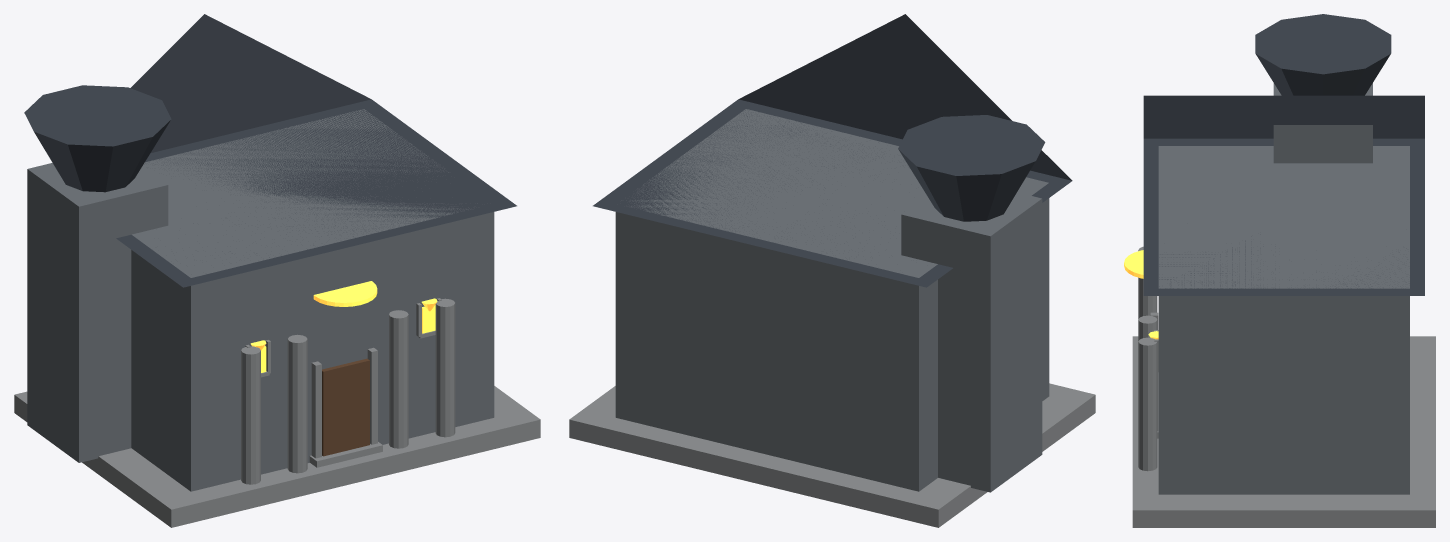
The model's file is library.glb.
The picture shows the model from 3 angles, left to right: view 1: azimuth 30°, elevation 25°; view 2: azimuth 150°, elevation 25°; view 3: azimuth 270°, elevation 25°; orthographic projection. The views are drawn at different scales.
Parts seen in each view (by area): view 1: MainHall, Roof, ArchiveTower, Foundation, ArchiveTowerRoof, Door, Column-1.3, Column2.5, Column1.3, Column-2.5, RoseWindow, DoorFrameL (+2 smaller); view 2: MainHall, ArchiveTower, Roof, Foundation, ArchiveTowerRoof; view 3: MainHall, Roof, Foundation, ArchiveTowerRoof, ArchiveTower, Column2.5, Column-1.3, RoseWindow, Column1.3.
Part boxes in pixels (x1=…): MainHall: x1=131, y1=109, x2=494, y2=491; Roof: x1=116, y1=14, x2=516, y2=287; ArchiveTower: x1=27, y1=163, x2=168, y2=462; Foundation: x1=14, y1=386, x2=540, y2=527; ArchiveTowerRoof: x1=24, y1=85, x2=171, y2=192; Door: x1=322, y1=358, x2=369, y2=456; Column-1.3: x1=287, y1=334, x2=307, y2=473; Column2.5: x1=435, y1=298, x2=455, y2=437; Column1.3: x1=389, y1=310, x2=408, y2=448; Column-2.5: x1=241, y1=346, x2=260, y2=484; RoseWindow: x1=313, y1=281, x2=377, y2=306; DoorFrameL: x1=311, y1=361, x2=321, y2=458; MainHall: x1=615, y1=109, x2=1049, y2=491; ArchiveTower: x1=901, y1=192, x2=1042, y2=492; Roof: x1=593, y1=14, x2=1072, y2=287; Foundation: x1=569, y1=383, x2=1095, y2=527; ArchiveTowerRoof: x1=898, y1=115, x2=1045, y2=221; MainHall: x1=1158, y1=146, x2=1409, y2=494; Roof: x1=1143, y1=95, x2=1424, y2=295; Foundation: x1=1132, y1=336, x2=1435, y2=527; ArchiveTowerRoof: x1=1255, y1=14, x2=1391, y2=95; ArchiveTower: x1=1273, y1=83, x2=1372, y2=163; Column2.5: x1=1138, y1=337, x2=1157, y2=471; Column-1.3: x1=1138, y1=277, x2=1157, y2=318; RoseWindow: x1=1124, y1=250, x2=1143, y2=278; Column1.3: x1=1138, y1=315, x2=1157, y2=340.
Bounding box in the file's own units: 10.5 × 8.8 × 7.2.
